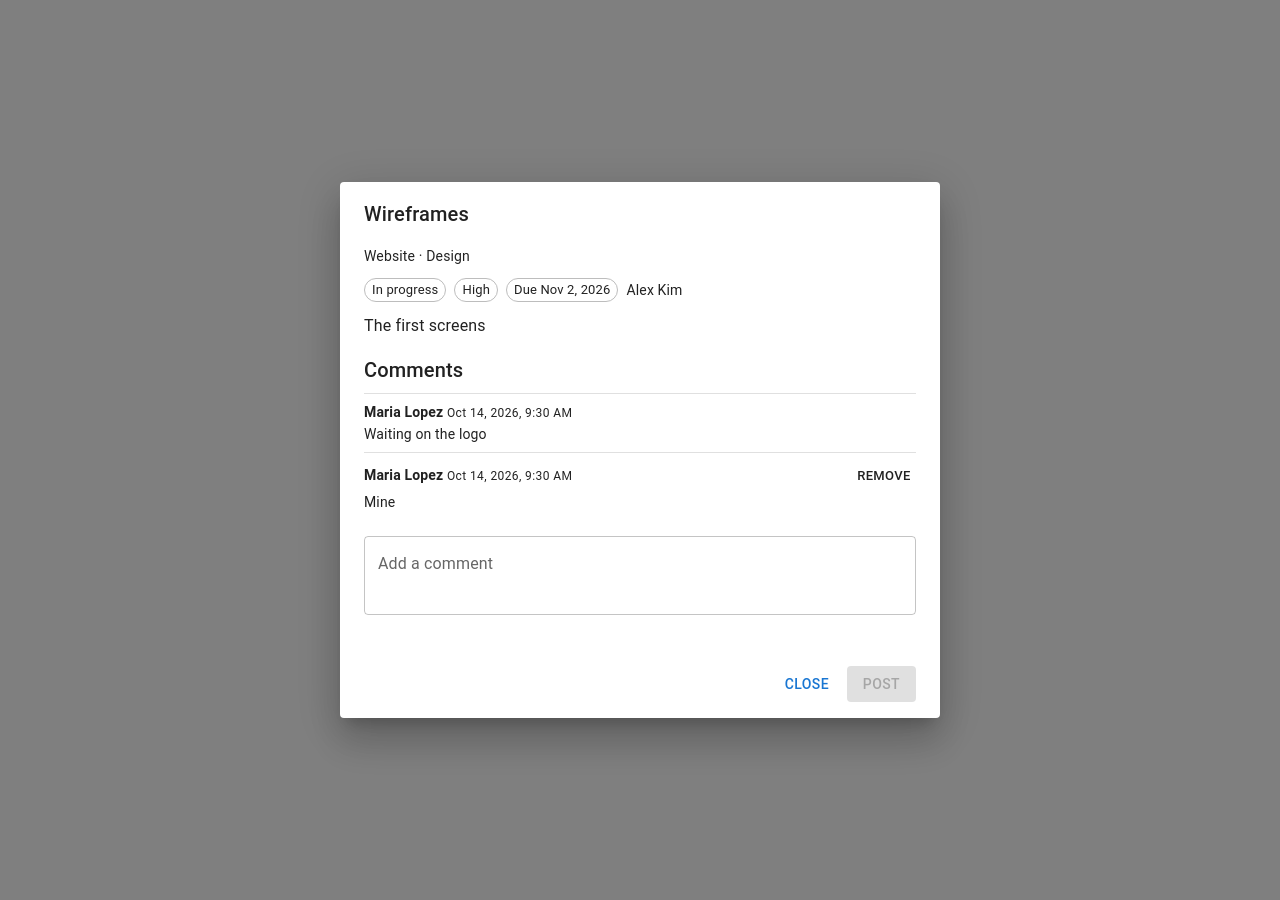
Test: TaskDetailDialog › offers Remove only where the server says it is allowed, and removes through the archive endpoint
Check: the text "Mine" is shown, box 364,494 -> 395,510
What coordinates should you click on to do the following:
click the button with aria-label "Remove comment by Maria Lopez"
I would click on:
 (884, 476)
Its box is 852,461 -> 916,492.
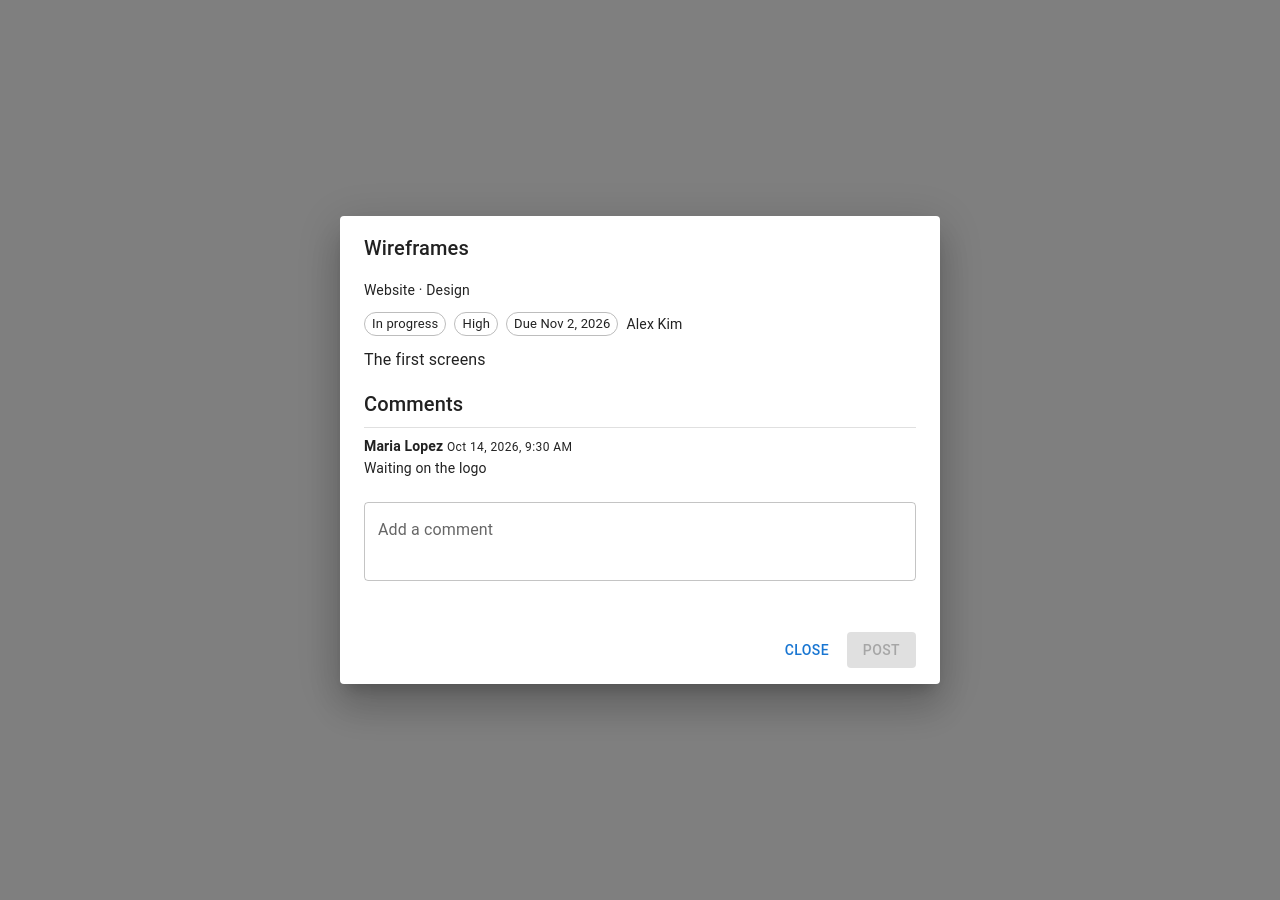
Check: the text "Mine" is gone
